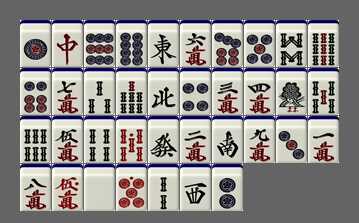0m: (52, 164, 83, 211)
0p: (116, 164, 147, 211)
0s: (116, 116, 147, 163)
1m: (308, 116, 339, 163)
1p: (20, 20, 51, 67)
1s: (276, 68, 307, 115)
1z: (148, 20, 179, 67)
2m: (180, 116, 211, 163)
2p: (212, 164, 243, 211)
2s: (148, 164, 179, 211)
2z: (212, 116, 243, 163)
3m: (212, 68, 243, 115)
3p: (276, 116, 307, 163)
3s: (84, 68, 115, 115)
3z: (180, 164, 211, 211)
4m: (244, 68, 275, 115)
4p: (180, 68, 211, 115)
4s: (84, 116, 115, 163)
4z: (148, 68, 179, 115)
5m: (52, 116, 83, 163)
5p: (244, 20, 275, 67)
5s: (308, 68, 339, 115)
5z: (84, 164, 115, 211)
6m: (180, 20, 211, 67)
6p: (20, 68, 51, 115)
6s: (20, 116, 51, 163)
6z: (148, 116, 179, 163)
7m: (52, 68, 83, 115)
7p: (212, 20, 243, 67)
7s: (116, 68, 147, 115)
7z: (52, 20, 83, 67)
8m: (20, 164, 51, 211)
8p: (116, 20, 147, 67)
8s: (276, 20, 307, 67)
9m: (244, 116, 275, 163)
9p: (84, 20, 115, 67)
9s: (308, 20, 339, 67)
